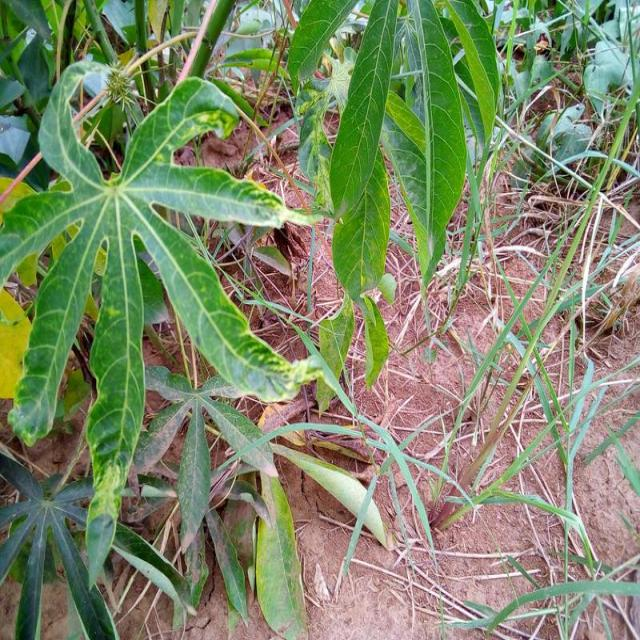cassava leaf: (1, 59, 326, 586)
